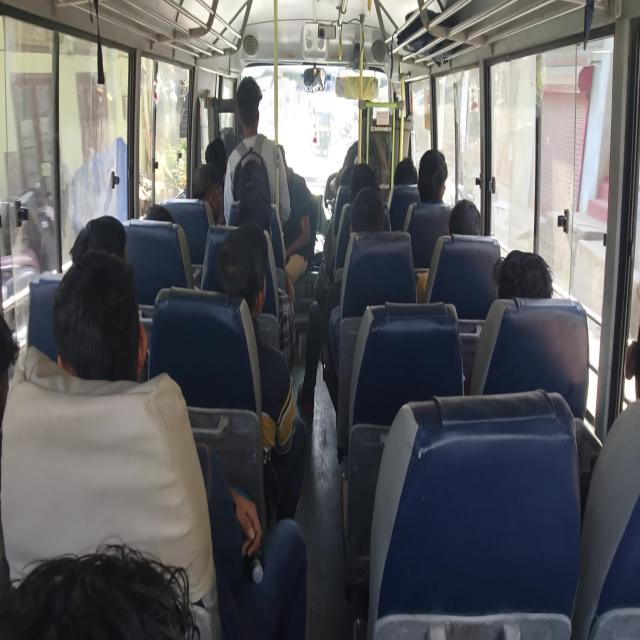person: (25, 520, 204, 640), (65, 244, 165, 369), (274, 144, 316, 266), (210, 224, 266, 302), (68, 195, 134, 260), (602, 290, 640, 397), (0, 303, 34, 407), (498, 250, 552, 305), (228, 198, 276, 254), (185, 161, 225, 223), (138, 188, 182, 243), (240, 78, 267, 140), (423, 150, 453, 199), (343, 205, 386, 238), (237, 186, 287, 212), (453, 200, 476, 247), (346, 166, 382, 195), (205, 130, 230, 167), (395, 153, 415, 185)
